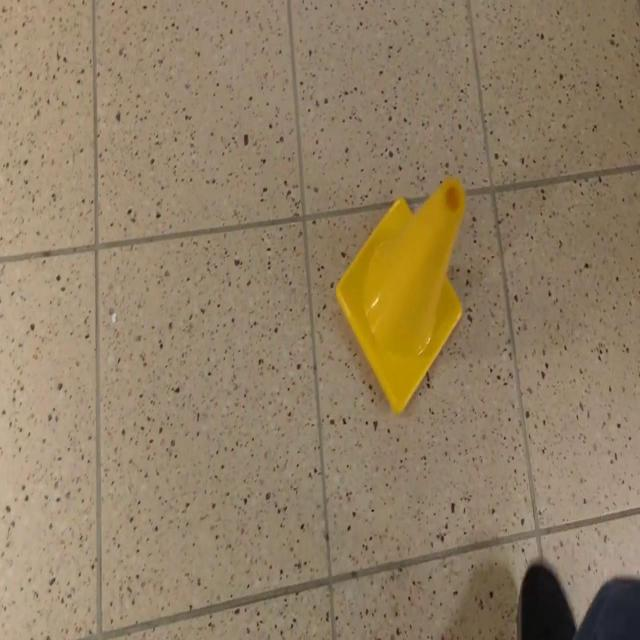frc_cone: (332, 173, 470, 414)
